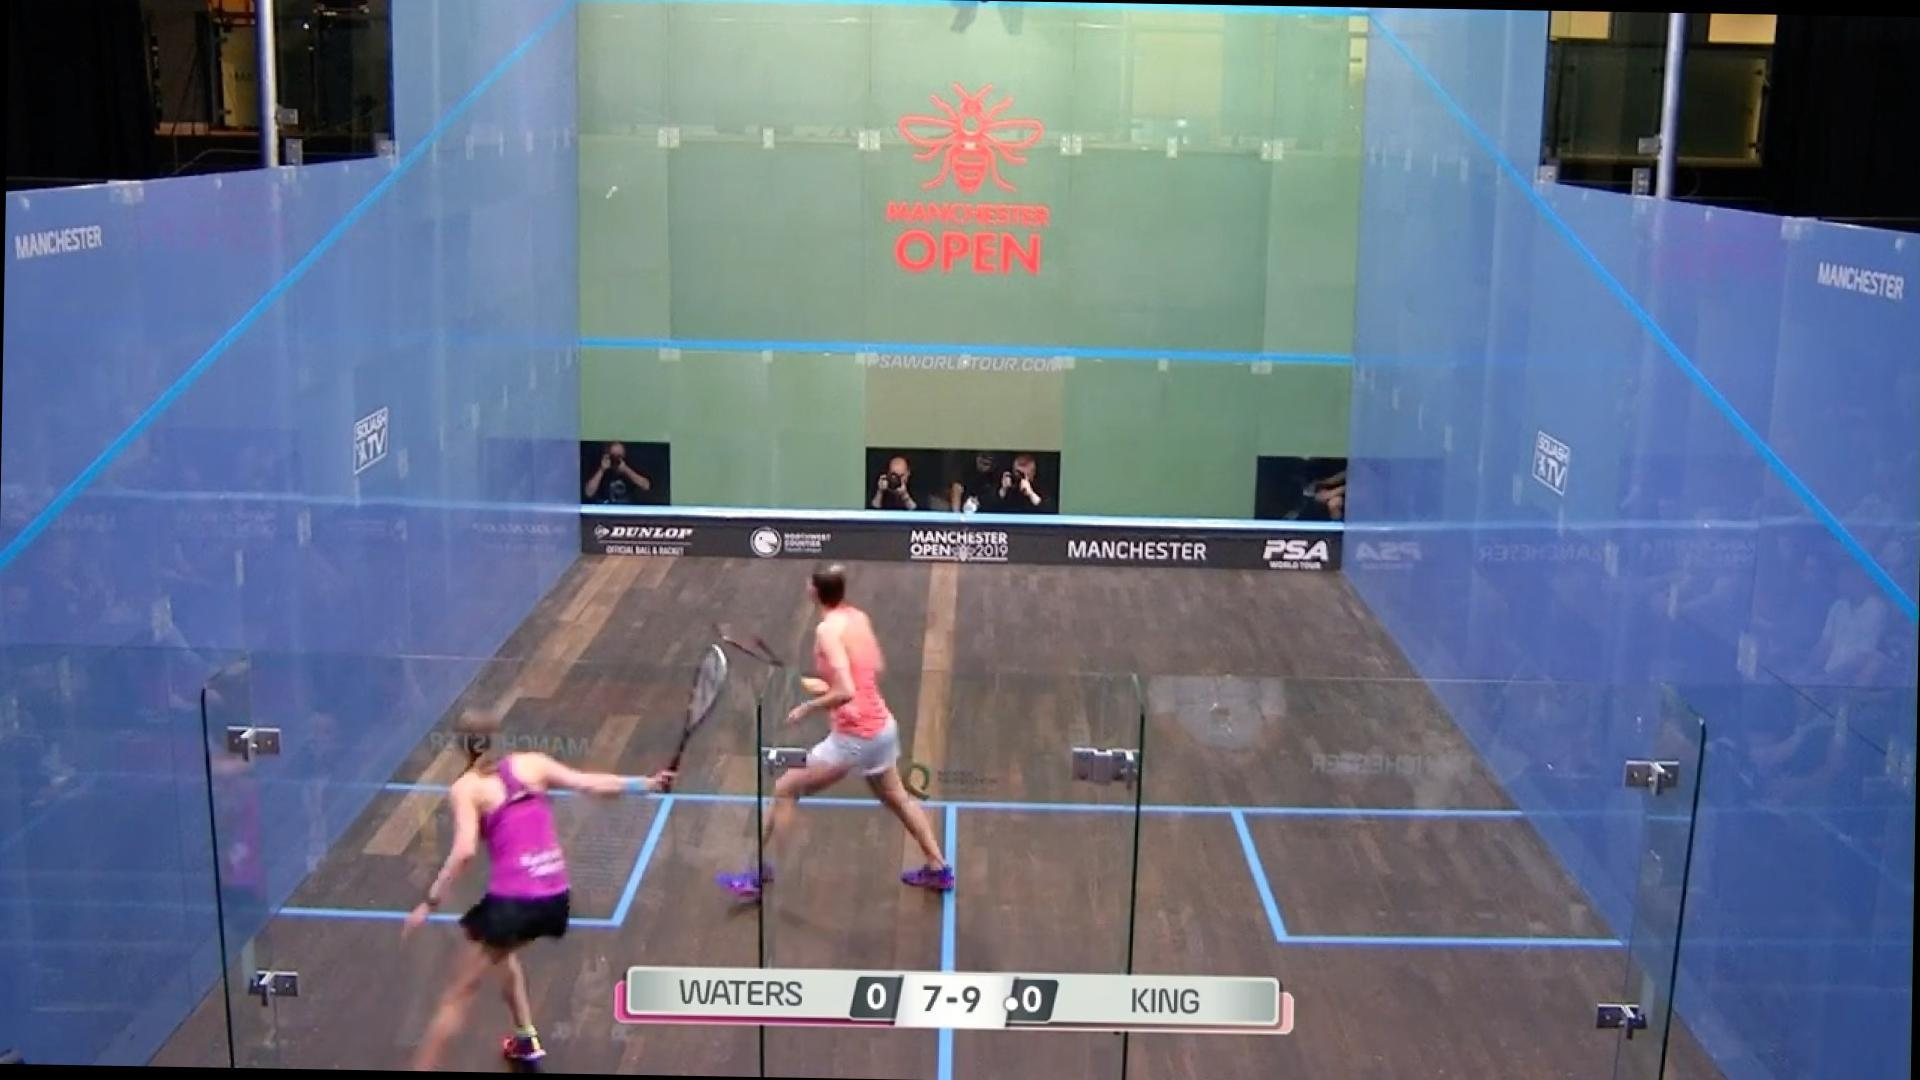Squash-Ball: (597, 156, 637, 222)
